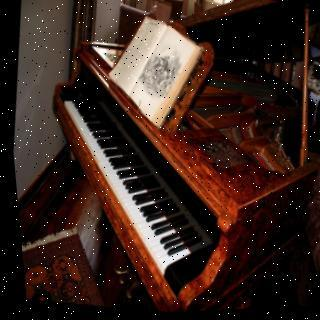book: (95, 9, 212, 137)
